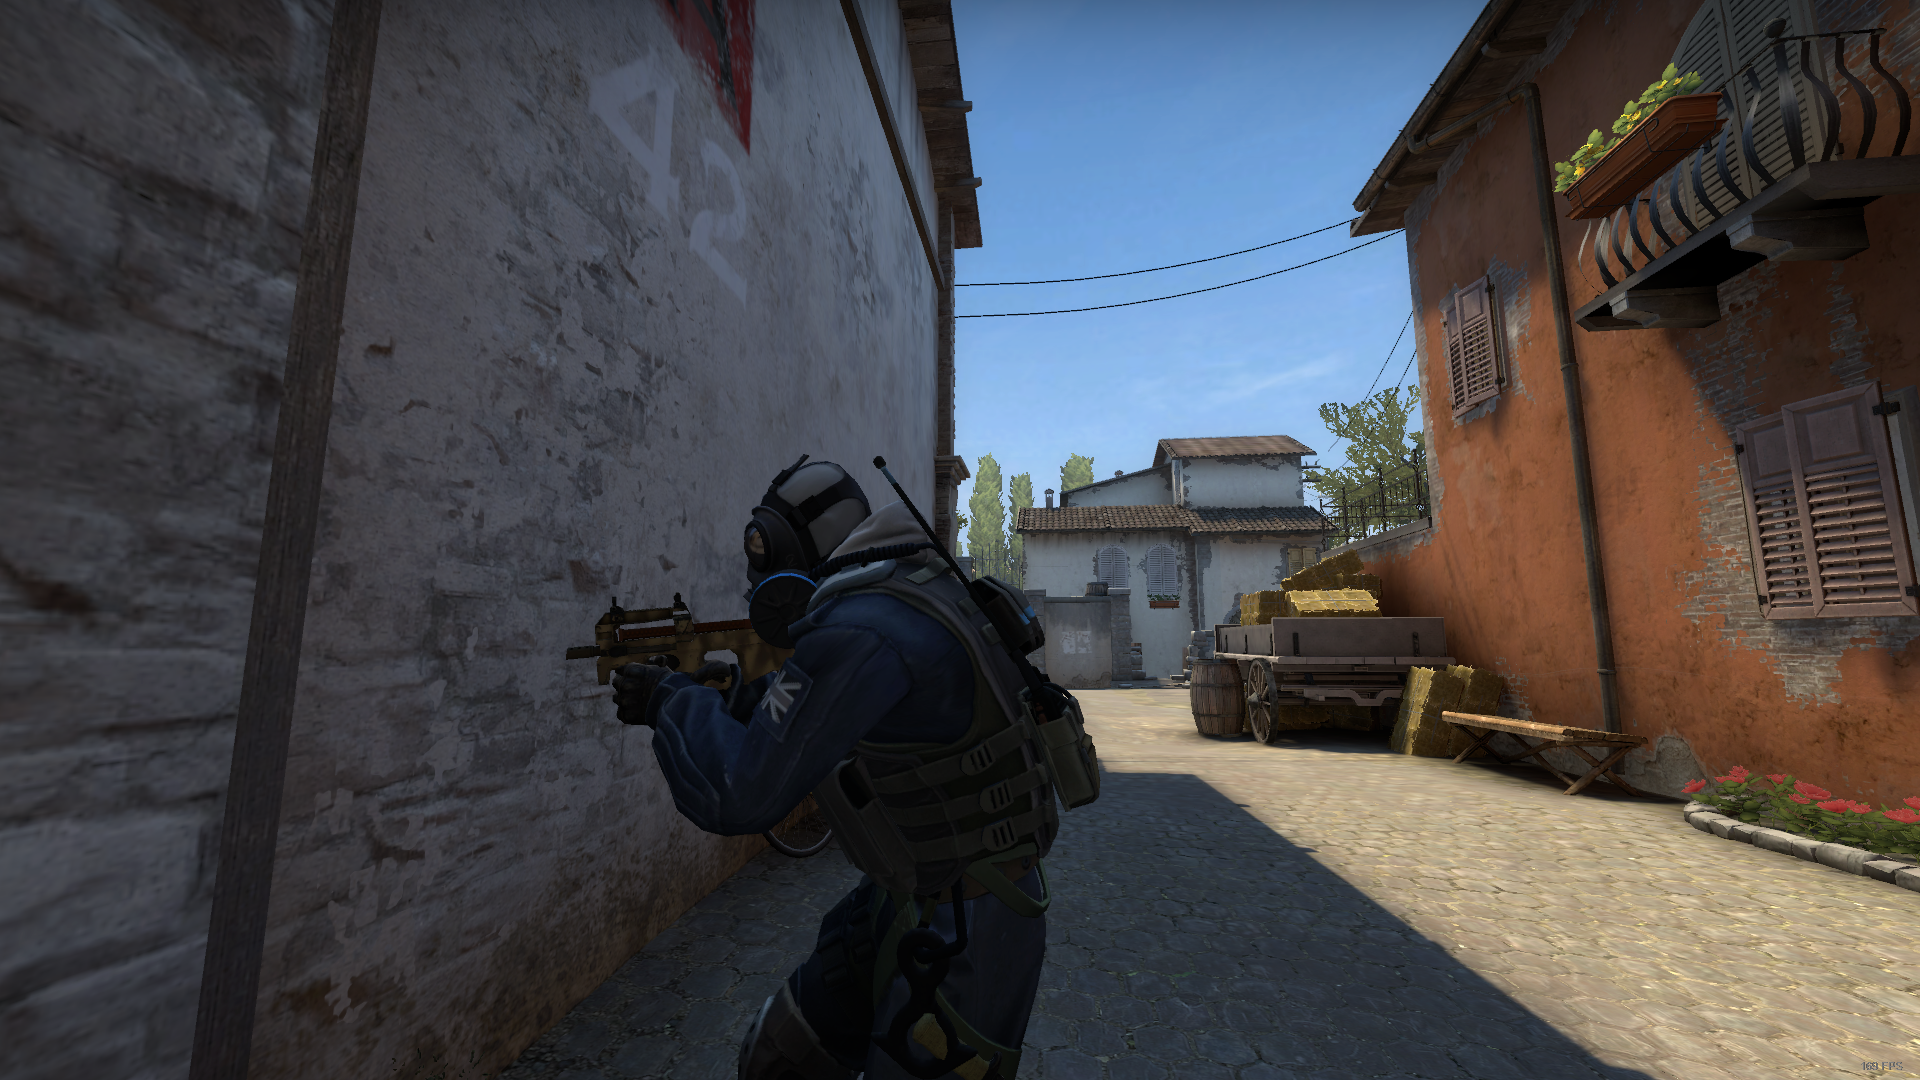ct: (618, 459, 1097, 1080)
